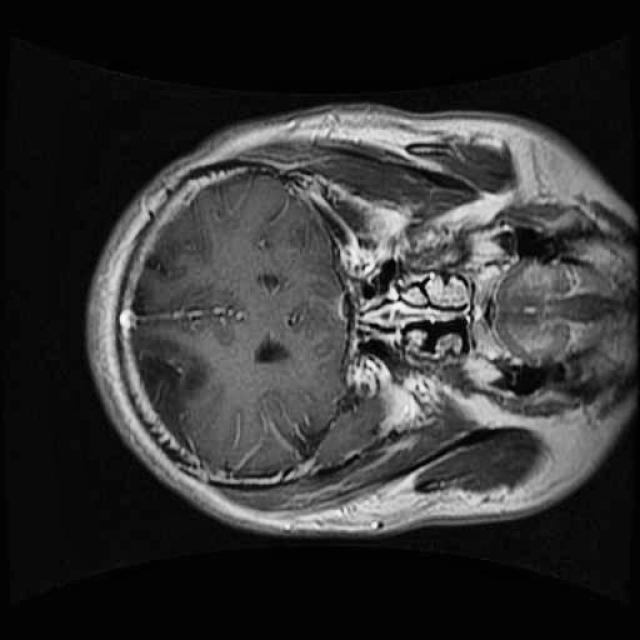Non-Tumor: (114, 312, 225, 475)
